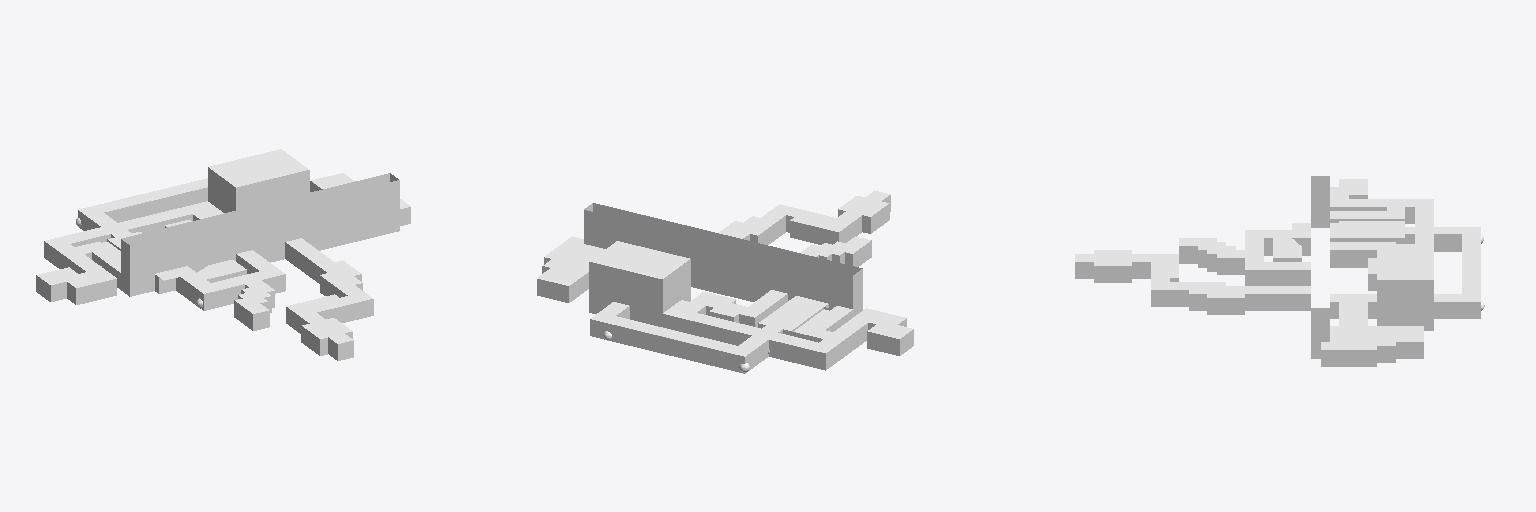
Rendered from ItemData.obj.
3 renders of one model, left to right at view 1: azimuth 30°, elevation 25°; view 2: azimuth 150°, elevation 25°; view 3: azimuth 270°, elevation 25°, orthographic.
Visible parts, largest first — view 1: MAP; view 2: MAP; view 3: MAP.
Boxes of the visible parts, x1=… form: MAP: x1=36, y1=149, x2=410, y2=360; MAP: x1=537, y1=190, x2=913, y2=373; MAP: x1=1075, y1=176, x2=1480, y2=366.
Size of the model in its own units: 43 by 6.04 by 43.39.